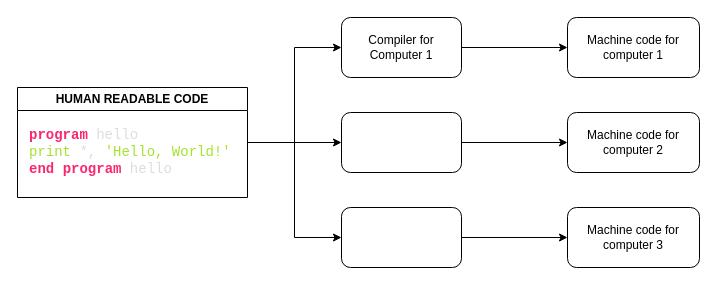
This 717x285 diagram has some shape labels left out. The shapes that lost their labels are listed below. From the top down, each one's box as (x1, y1, x2, y2) in pixels, then its label:
(340, 112, 462, 172): Compiler for Computer 2
(340, 206, 462, 268): Compiler for Computer 3
